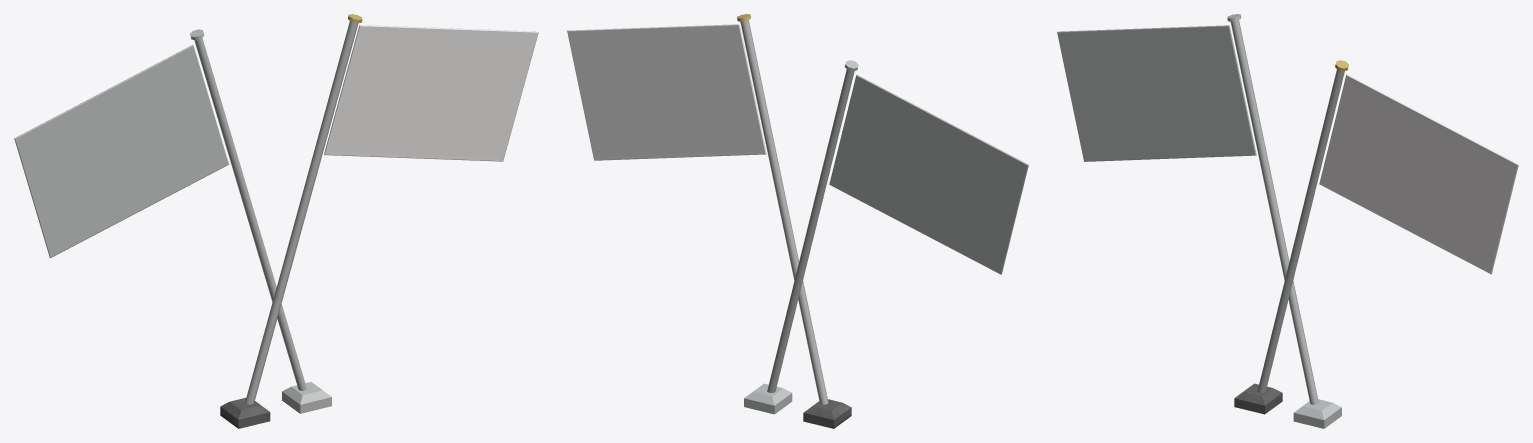
The model's file is objects_un_base_flag02.gltf.
3 renders of one model, left to right at view 1: azimuth 30°, elevation 25°; view 2: azimuth 150°, elevation 25°; view 3: azimuth 330°, elevation 25°, orthographic. The views are drawn at different scales.
Parts seen in each view (by area): view 1: objects_un_base_flag02_01_mesh_shape:objects_un_base_flag02_; view 2: objects_un_base_flag02_01_mesh_shape:objects_un_base_flag02_; view 3: objects_un_base_flag02_01_mesh_shape:objects_un_base_flag02_.
Boxes of the visible parts, x1,y1,x2,y2 form: objects_un_base_flag02_01_mesh_shape:objects_un_base_flag02_: [14, 14, 538, 428]; objects_un_base_flag02_01_mesh_shape:objects_un_base_flag02_: [567, 14, 1028, 428]; objects_un_base_flag02_01_mesh_shape:objects_un_base_flag02_: [1057, 14, 1518, 428].
Size of the model in its own units: 22.78 by 16.82 by 2.39.
Materials: 1 (1 with a texture image).
